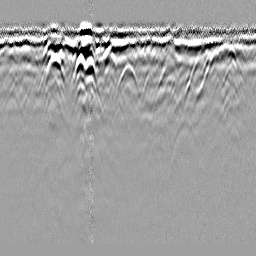cavity: (115, 61, 140, 97)
